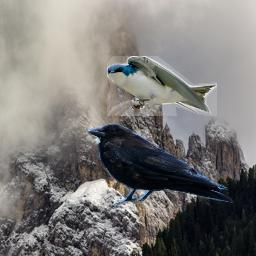Crow: (84, 123, 233, 206)
Swallow: (107, 56, 217, 116)
